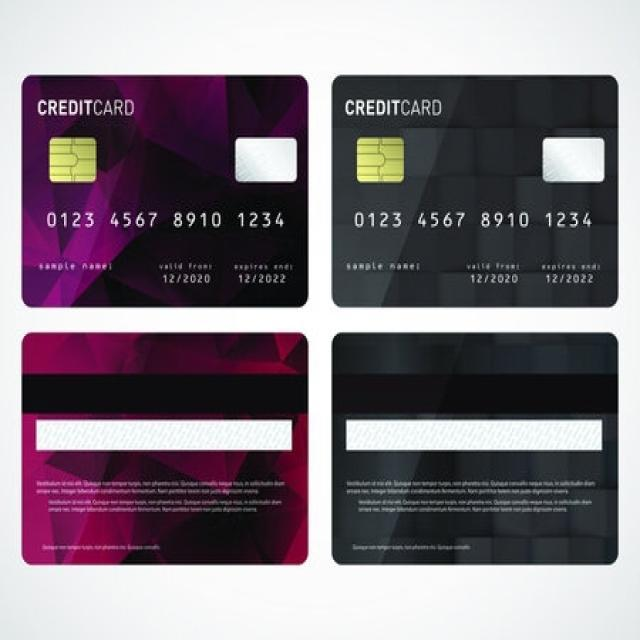payment_card: (20, 327, 310, 566), (330, 328, 618, 565), (330, 73, 618, 307), (20, 74, 308, 307)
